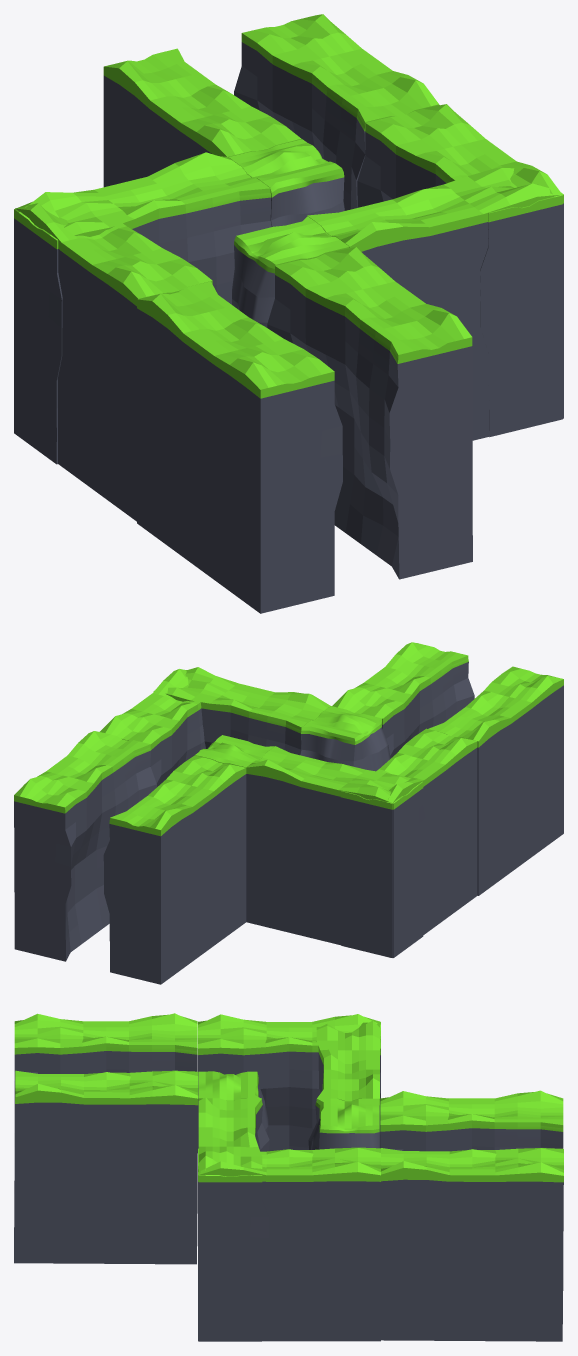
The model's file is BlockSet12.dae.
3 views of the same model, one above another, from view 1: azimuth 30°, elevation 25°; view 2: azimuth 150°, elevation 25°; view 3: azimuth 270°, elevation 25° (orthographic). The views are drawn at different scales.
Visible parts, largest first — view 1: BlockSet12Fin; view 2: BlockSet12Fin; view 3: BlockSet12Fin.
Part boxes in pixels (box(x1,y1,x2,y2)): BlockSet12Fin: box(14, 14, 563, 613); BlockSet12Fin: box(14, 642, 563, 984); BlockSet12Fin: box(14, 1013, 563, 1341).
Bounding box in the file's own units: 311 × 167 × 467.
